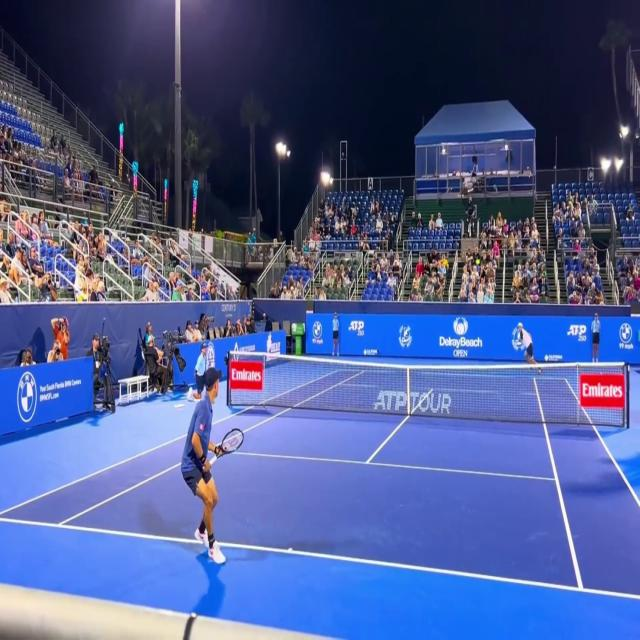tennisBall: (474, 252, 481, 274)
